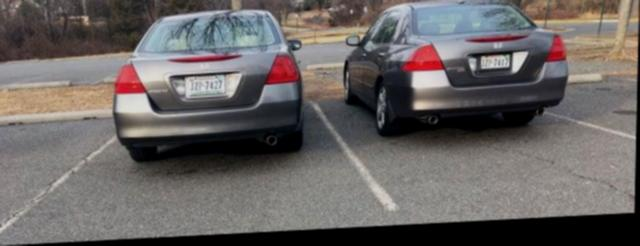License_Plate: (179, 70, 230, 103), (475, 49, 513, 72)
